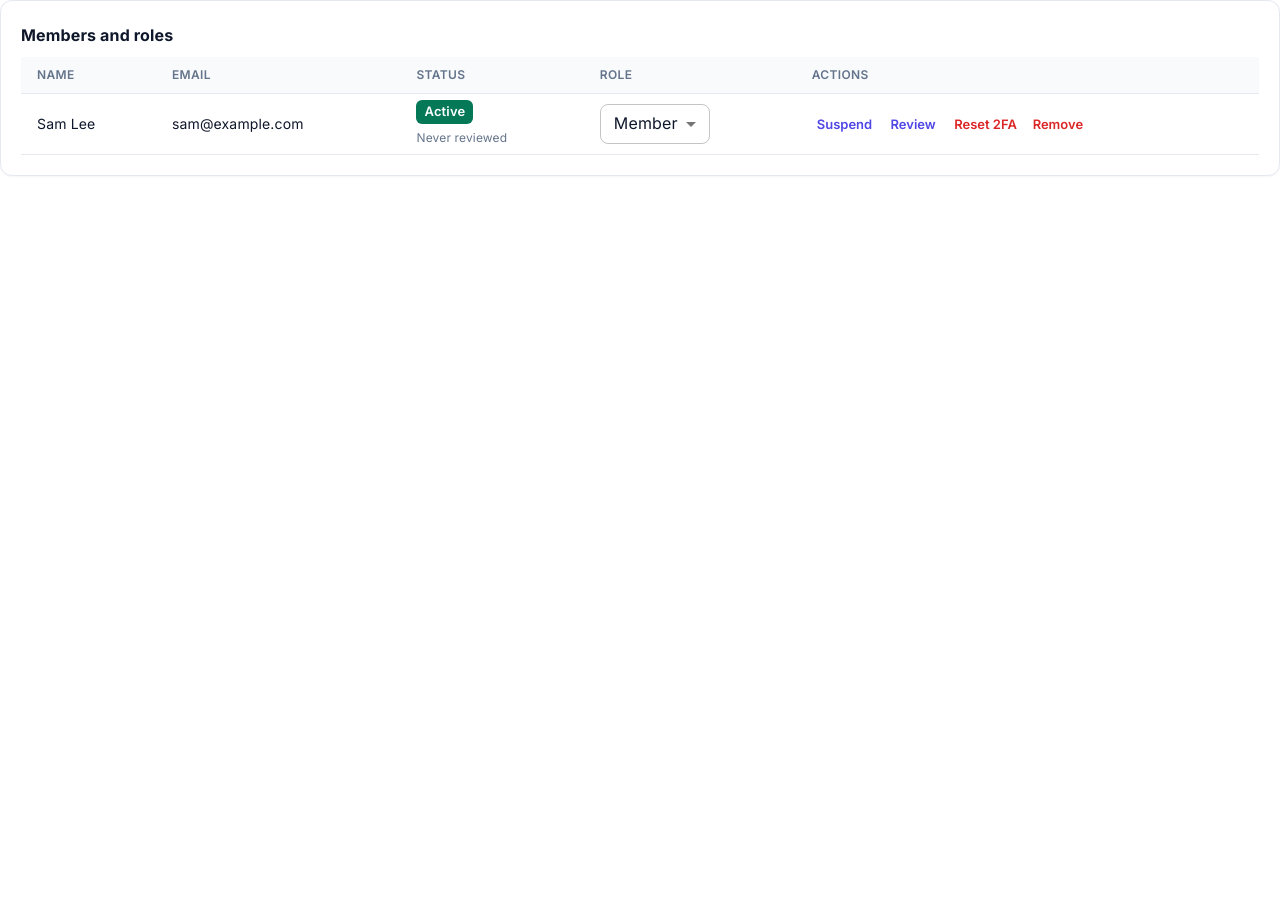
Two-factor reset by an administrator › has no detectable a11y violations with the dialog open
Click the button with aria-label "Reset two-factor authentication for Sam Lee" at (985, 124), box [949, 109, 1022, 139]
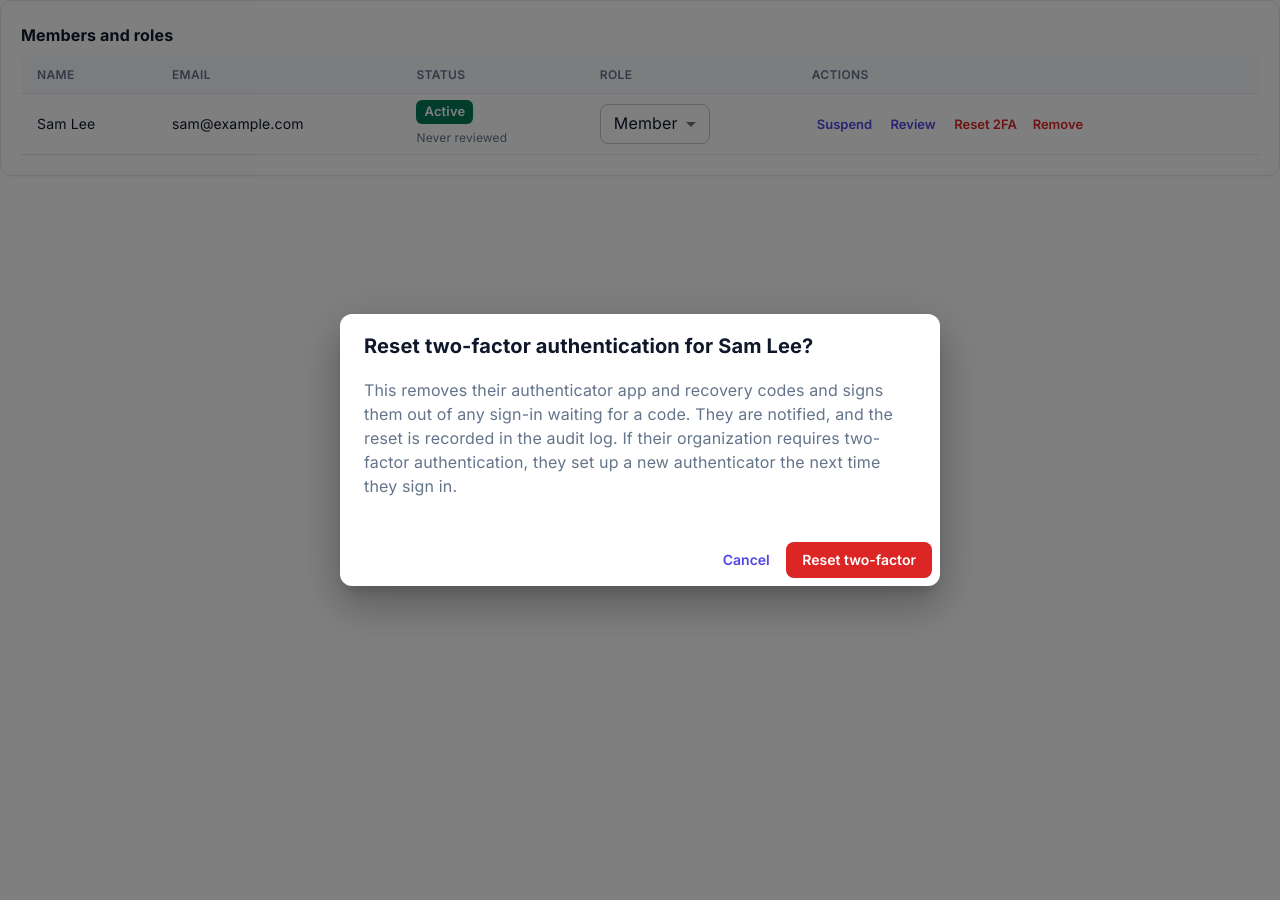
Check: the dialog is shown, box [340, 314, 940, 586]
